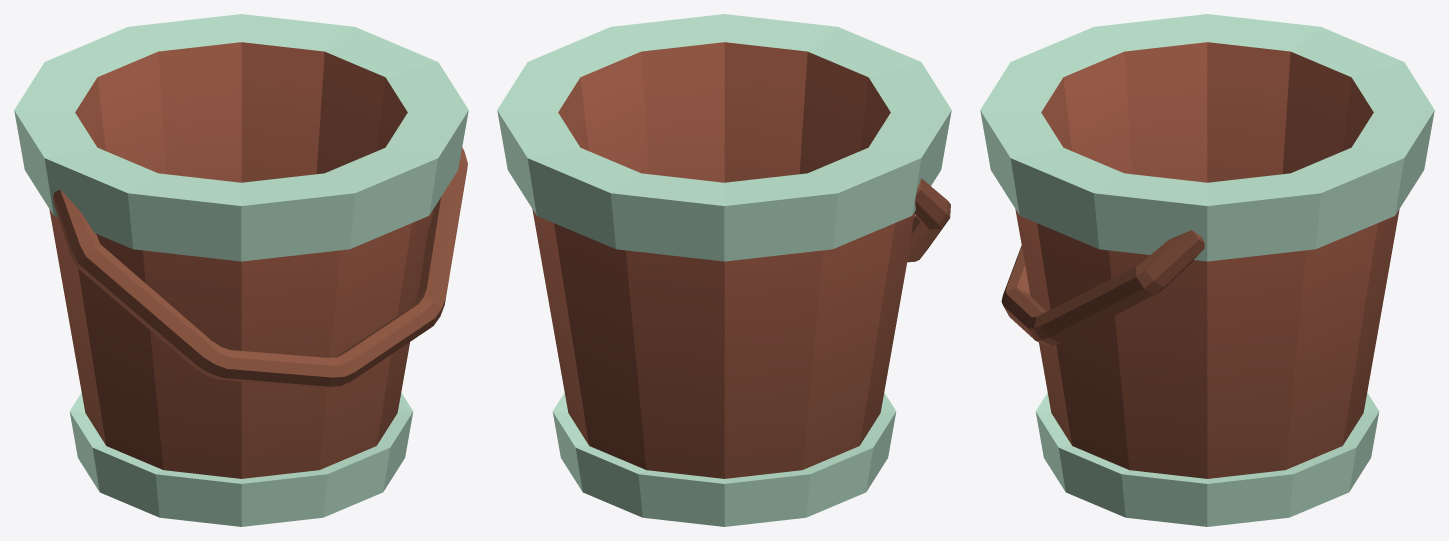
Rendered from bucket.fbx.
The picture shows the model from 3 angles, left to right: view 1: azimuth 30°, elevation 25°; view 2: azimuth 150°, elevation 25°; view 3: azimuth 270°, elevation 25°; orthographic projection.
Visible parts, largest first — view 1: Cylinder.009; view 2: Cylinder.009; view 3: Cylinder.009.
Part boxes in pixels (bbox=[...]): Cylinder.009: bbox=[14, 14, 468, 526]; Cylinder.009: bbox=[497, 14, 951, 526]; Cylinder.009: bbox=[980, 14, 1434, 526].
Bounding box in the file's own units: 306 × 258 × 306.
